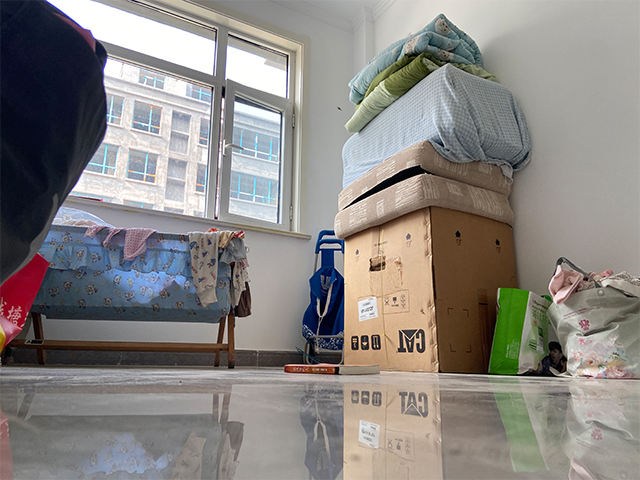book: (285, 361, 381, 376)
stool: (10, 203, 252, 371)
